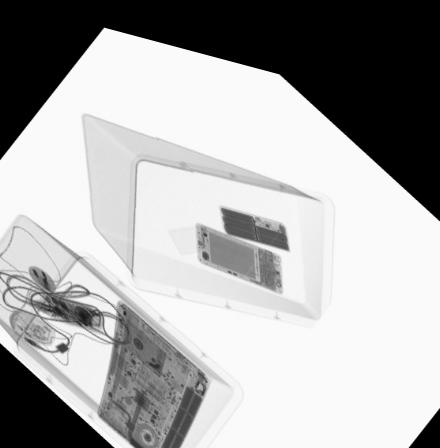Powerbank: (214, 191, 290, 237)
